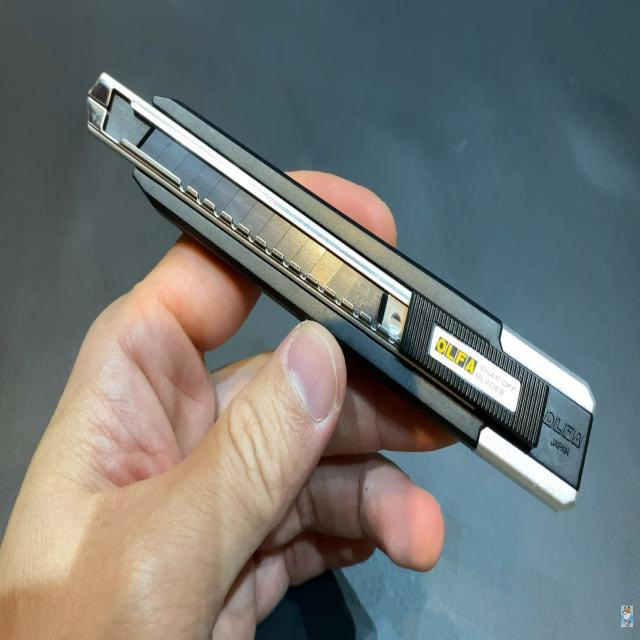cutter: (53, 2, 634, 520)
